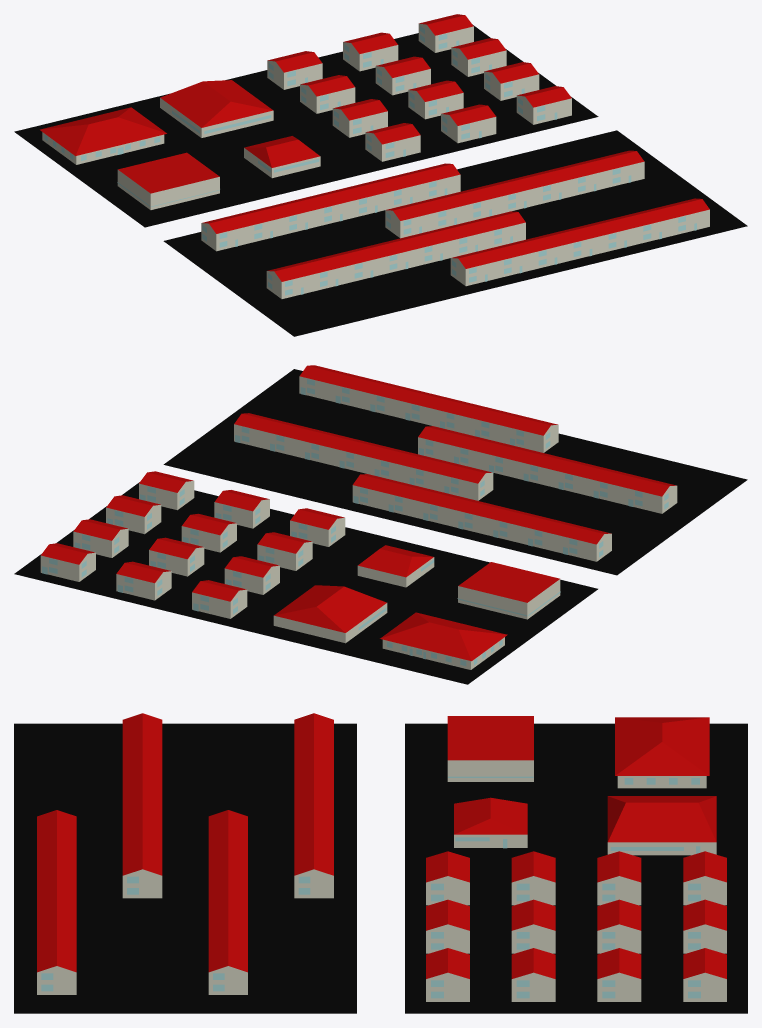
3 renders of one model, top to bottom at view 1: azimuth 30°, elevation 25°; view 2: azimuth 150°, elevation 25°; view 3: azimuth 270°, elevation 25°, orthographic. The views are drawn at different scales.
Parts seen in each view (by area): view 1: Ground, Roofs, Walls, Windows; view 2: Ground, Roofs, Walls, Windows; view 3: Ground, Roofs, Walls, Windows.
Boxes of the visible parts, x1,y1,x2,y2 form: Ground: (14,24,747,336); Roofs: (40,14,709,281); Walls: (42,23,709,298); Windows: (44,26,696,295); Ground: (14,369,747,684); Roofs: (41,365,676,661); Walls: (40,376,677,669); Windows: (42,379,668,665); Ground: (14,723,747,1013); Roofs: (37,713,726,978); Walls: (37,760,726,1001); Windows: (41,776,700,998).
Size of the model in its own units: 142 by 6.82 by 152.
